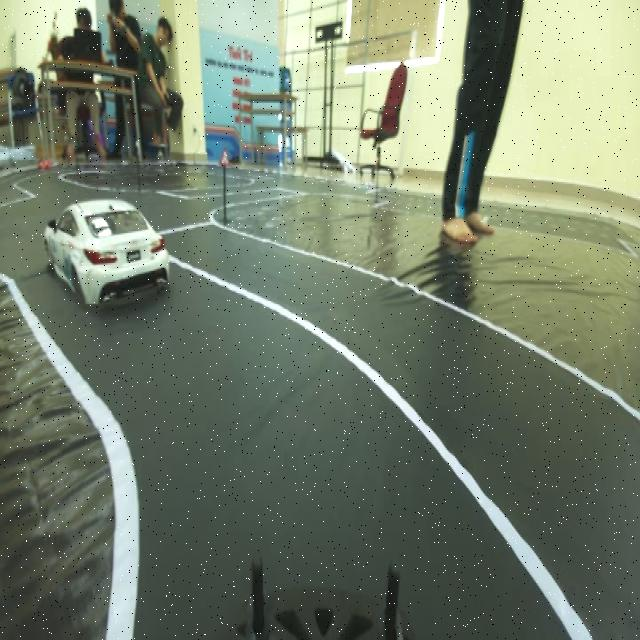car: (34, 192, 178, 318)
